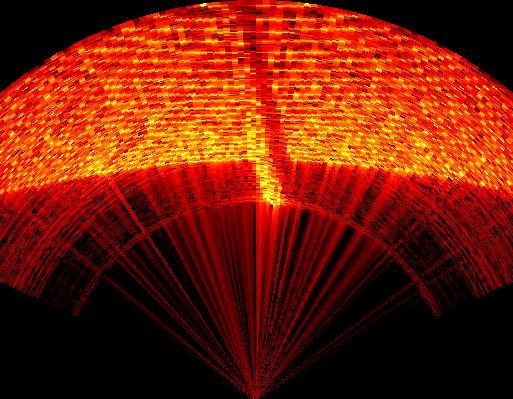pipe: (231, 1, 296, 194)
